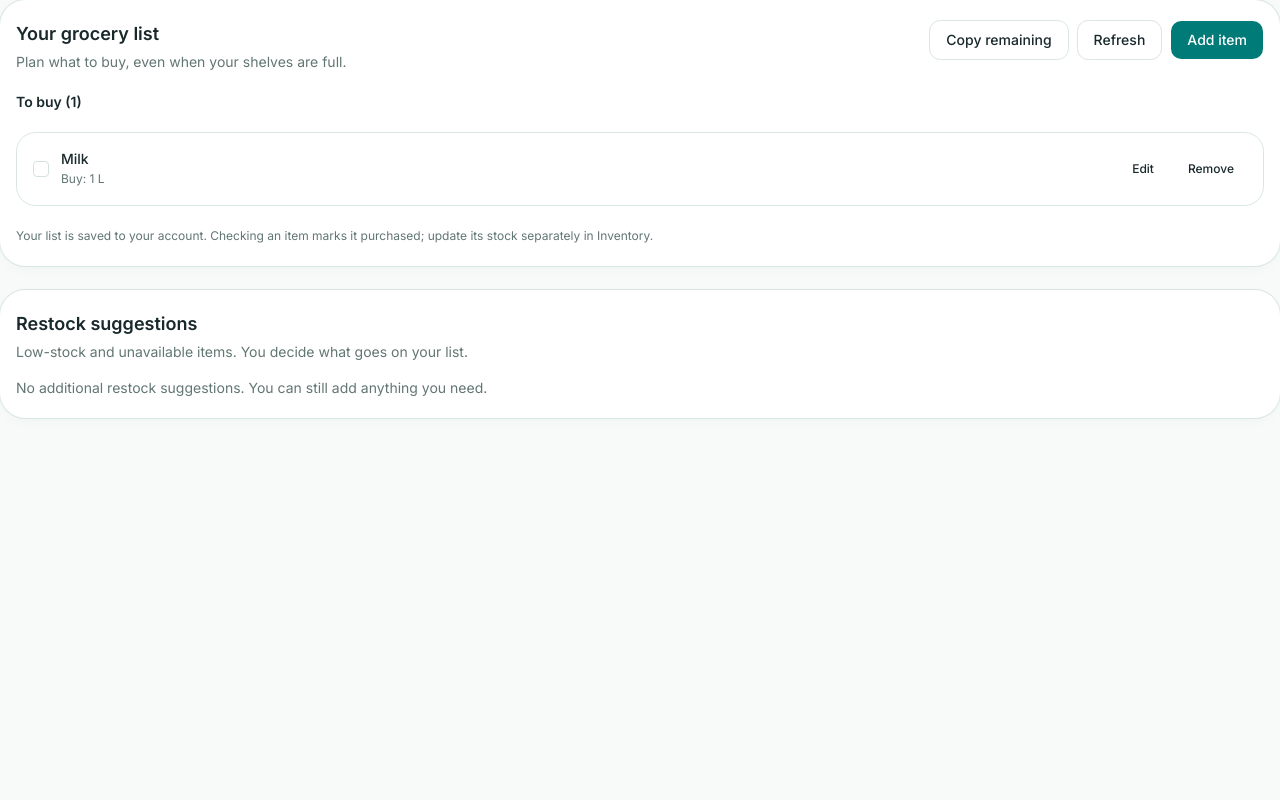
Test: grocery failures preserve the item and copying the list announces success
This screenshot has width=1280, height=800.
Click the checkbox named "Milk".
click(41, 169)  # box [33,161,49,177]
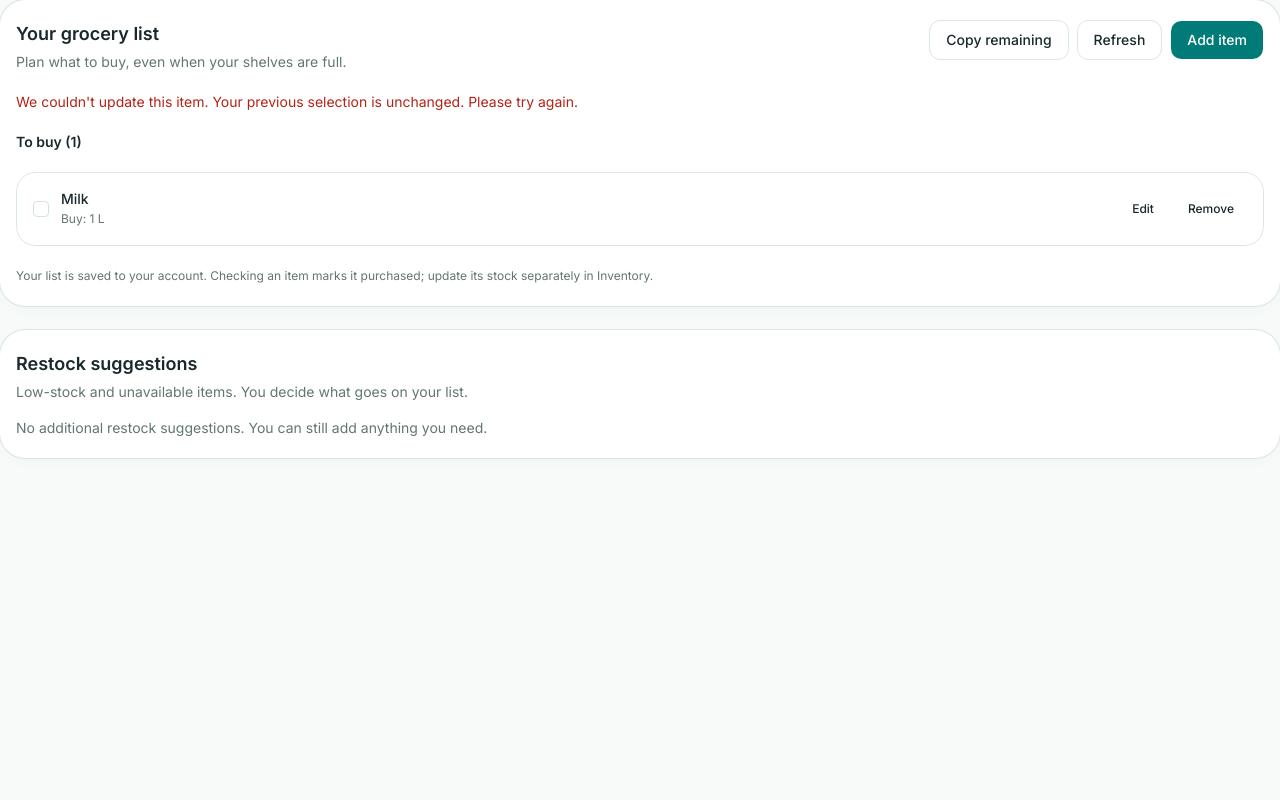
Expected: the checkbox named "Milk" is not checked, [33,201,49,217]
Expected: the message shows "previous selection is unchanged", [16,93,578,110]
Click the button "Copy remaining".
click(999, 40)  # box [929,20,1068,60]
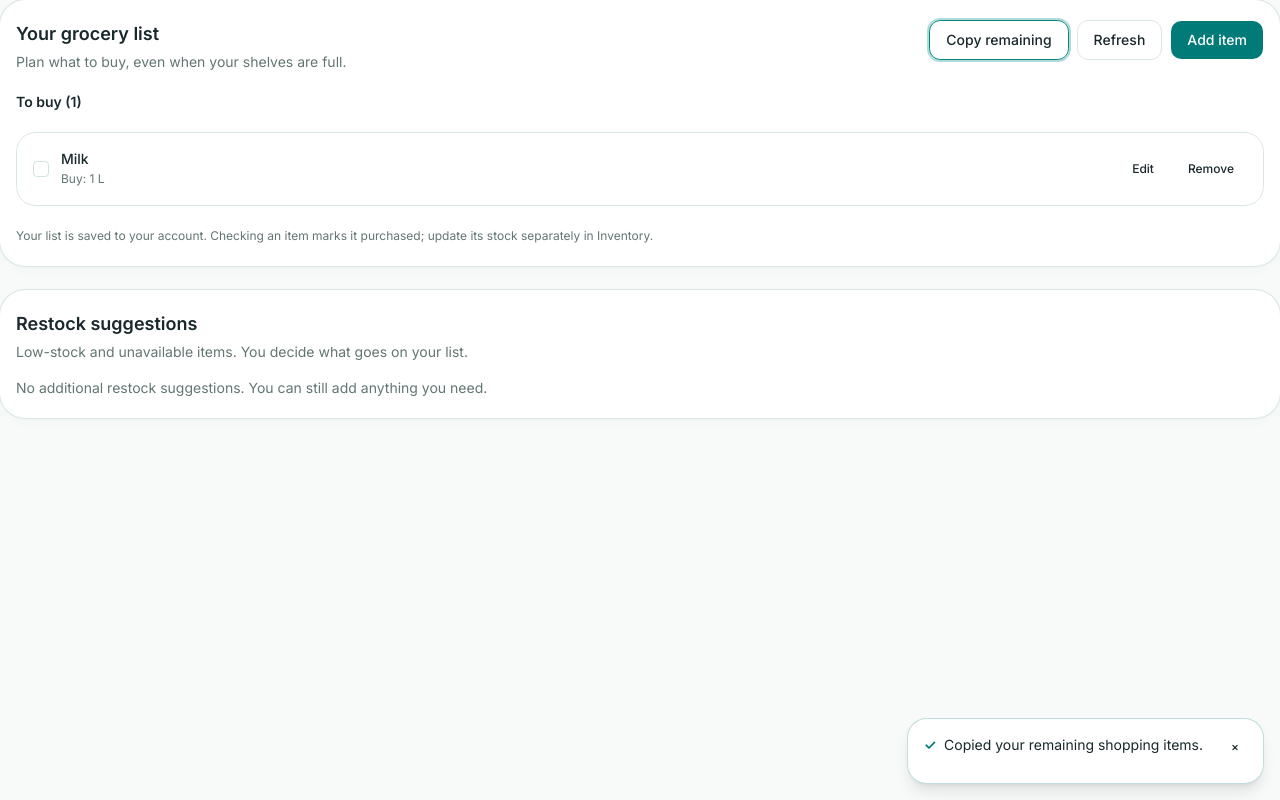
Expected: the text "Copied your remaining shopping items." is shown, [944,735,1203,755]
